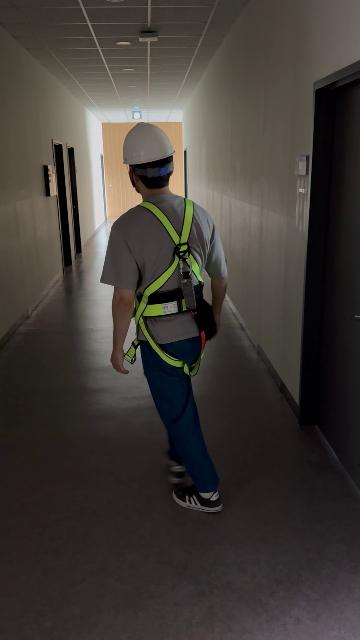helmet_worn: (121, 121, 176, 165)
shoe_not_worn: (172, 483, 222, 512), (167, 462, 186, 484)
vest_worn: (124, 200, 208, 369)
